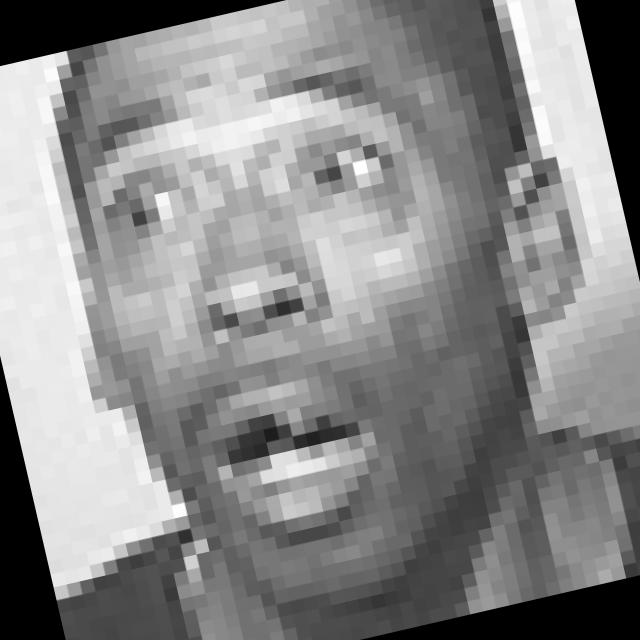fear: (63, 41, 517, 580)
